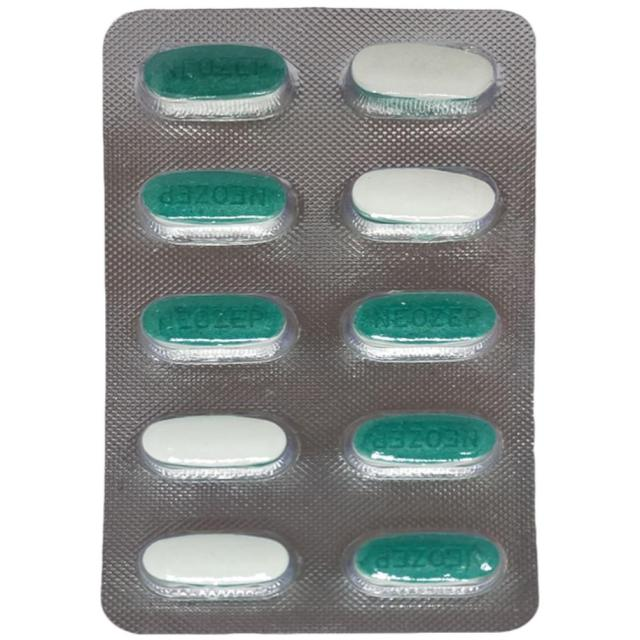blister: (98, 4, 544, 634)
